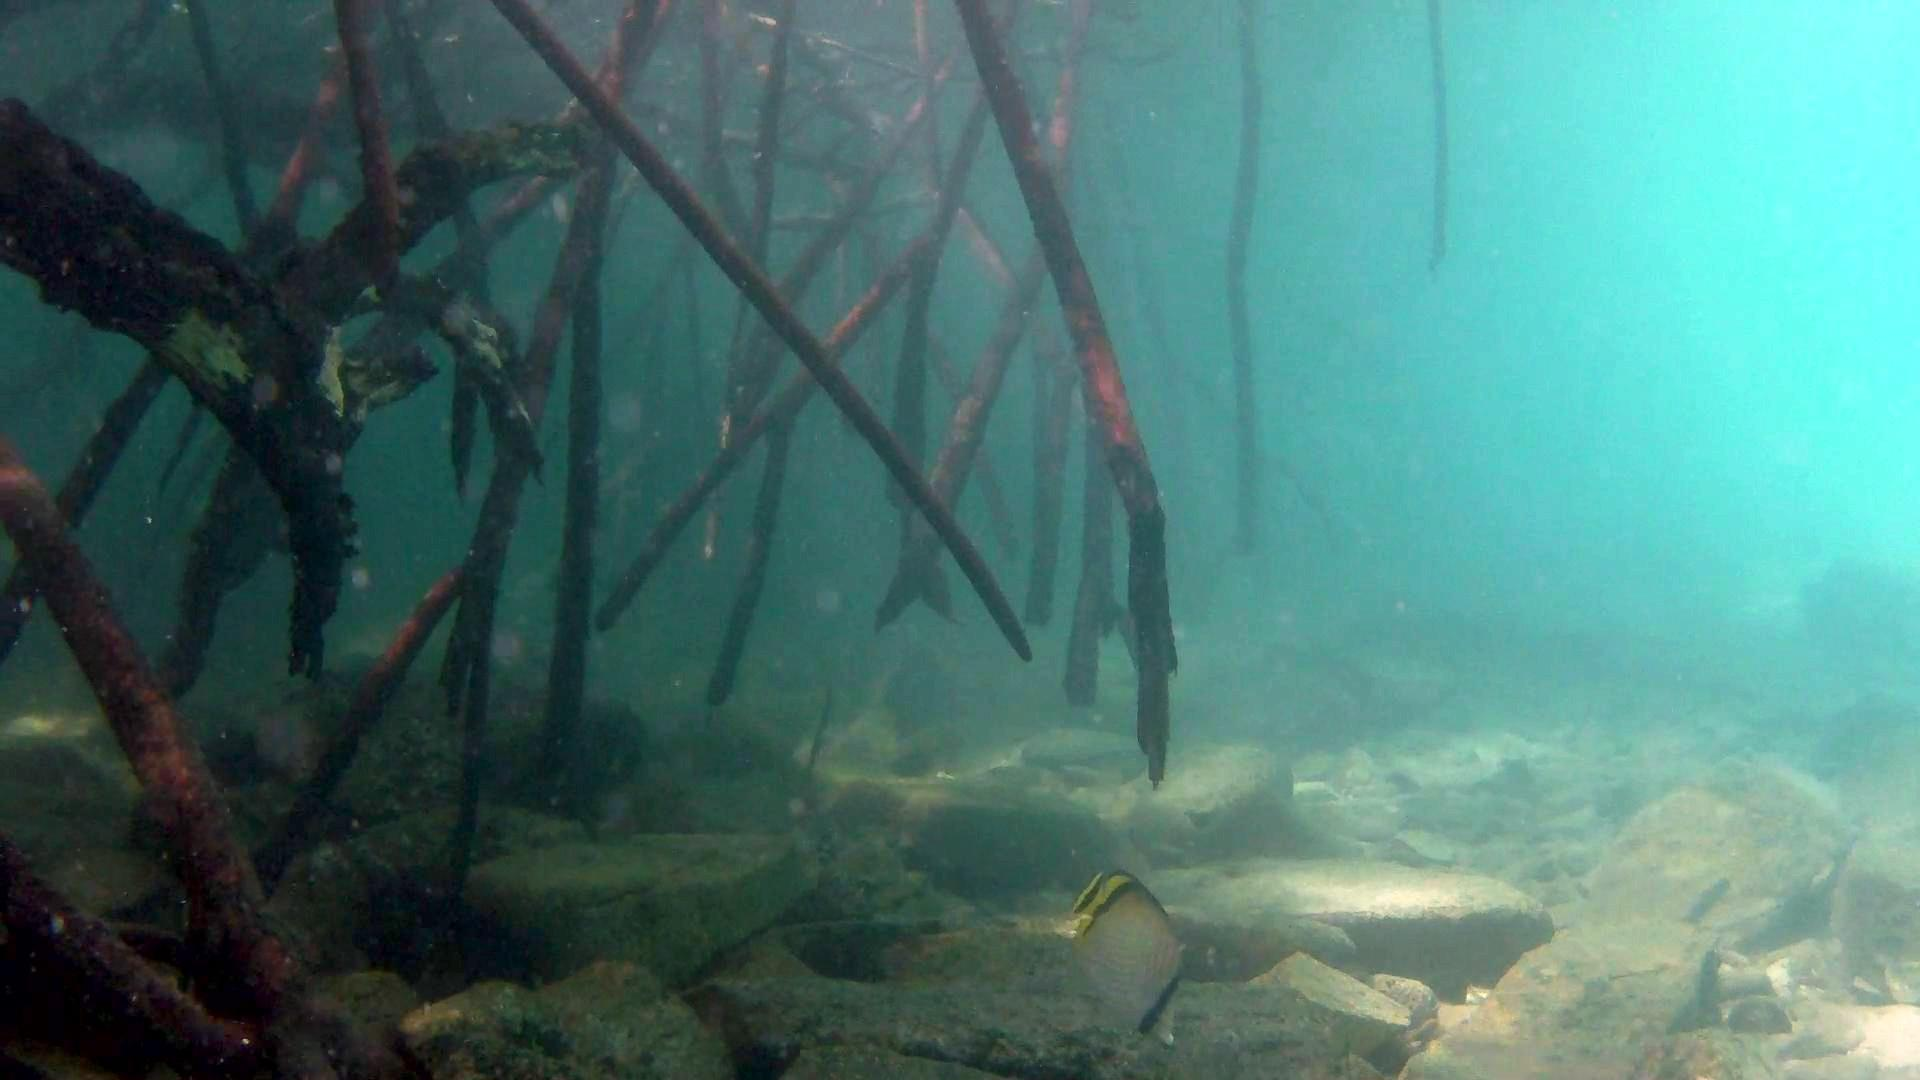chaetodon vagabundus: (1069, 870, 1183, 1047)
